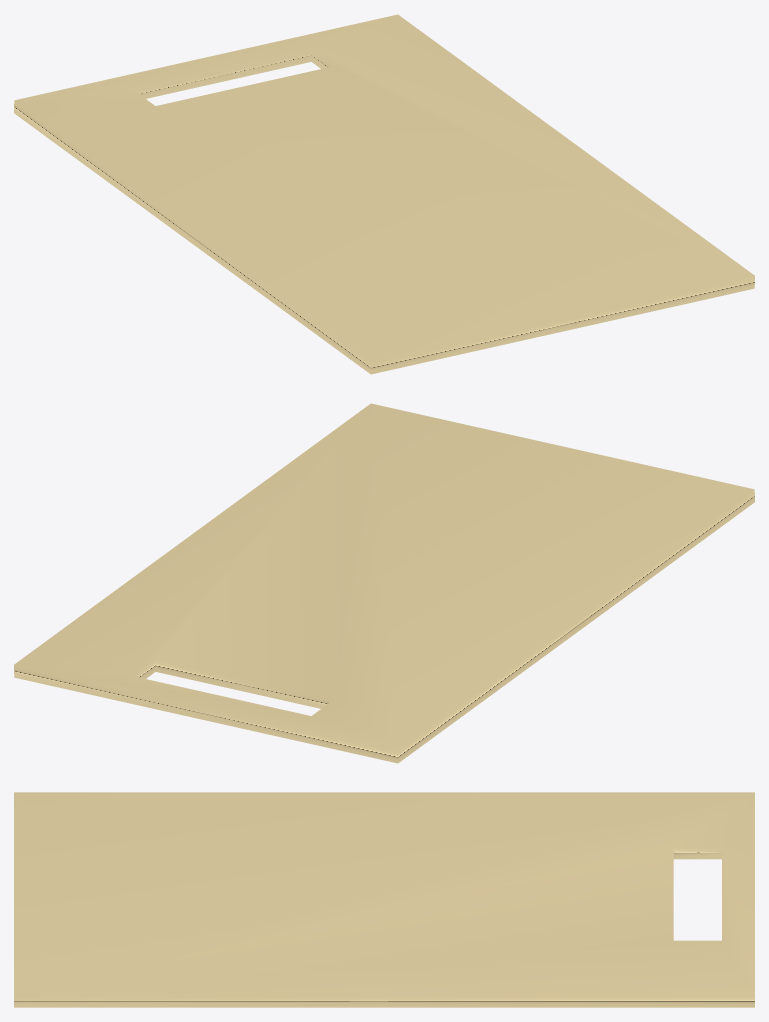
File: cuttingboard.fbx
3 renders of one model, top to bottom at view 1: azimuth 30°, elevation 25°; view 2: azimuth 150°, elevation 25°; view 3: azimuth 270°, elevation 25°, orthographic. The views are drawn at different scales.
Parts seen in each view (by area): view 1: Cube.037; view 2: Cube.037; view 3: Cube.037.
Boxes of the visible parts, bbox=[...] form: Cube.037: bbox=[14, 14, 754, 374]; Cube.037: bbox=[14, 403, 754, 763]; Cube.037: bbox=[14, 792, 754, 1007].
Bounding box in the file's own units: 292 × 14.95 × 470.
